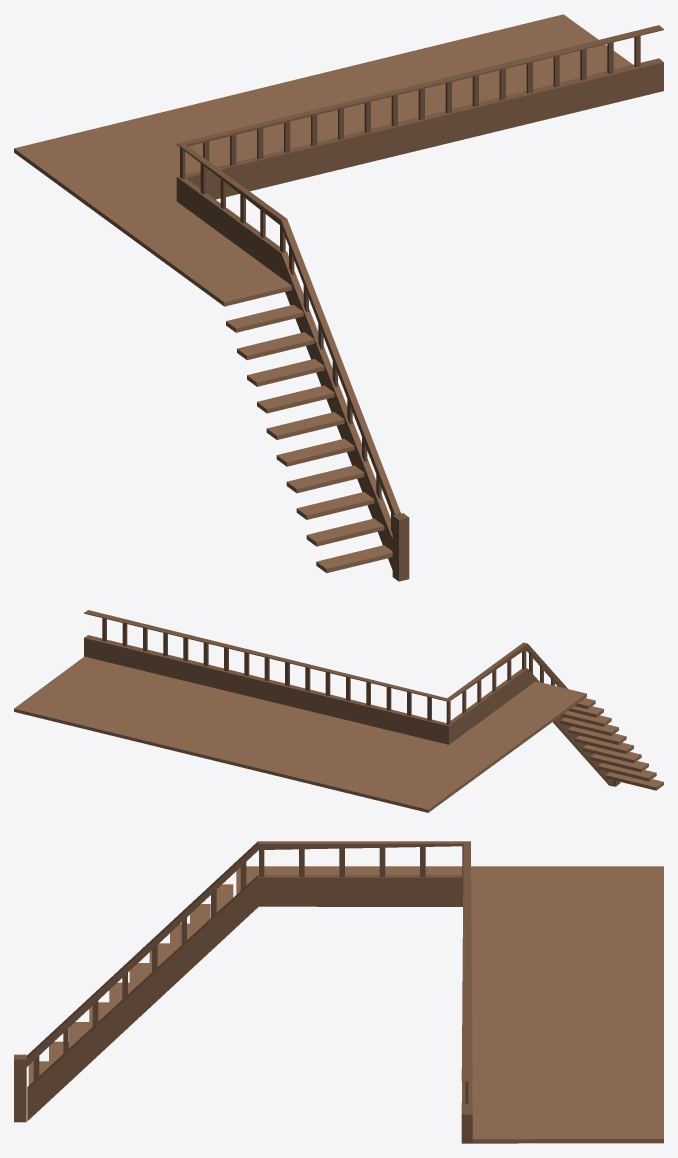
Rendered from Stair.fbx.
3 renders of one model, top to bottom at view 1: azimuth 30°, elevation 25°; view 2: azimuth 150°, elevation 25°; view 3: azimuth 270°, elevation 25°, orthographic. The views are drawn at different scales.
Visible parts, largest first — view 1: Box087; view 2: Box087; view 3: Box087.
Boxes of the visible parts, x1,y1,x2,y2 form: Box087: (14, 14, 663, 581); Box087: (14, 610, 663, 812); Box087: (14, 841, 663, 1143).
Bounding box in the file's own units: 1311 × 620 × 1318.
Materials: 1 (1 with a texture image).
